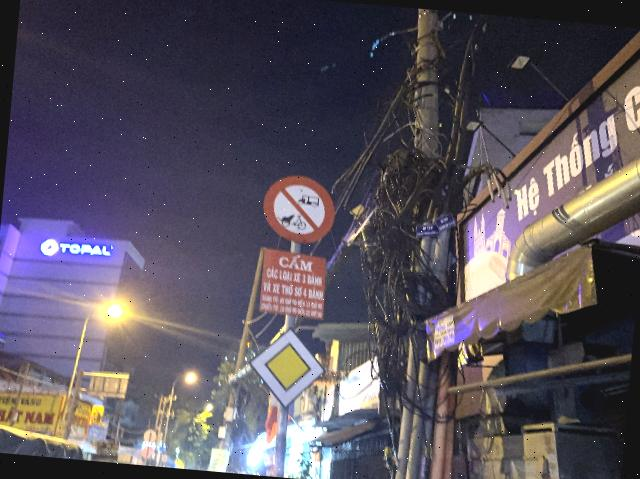bat-dau-duong-uu-tien: (244, 324, 330, 412)
cam-xe-3-banh-xe-tho-so-4-banh: (260, 172, 338, 246)
